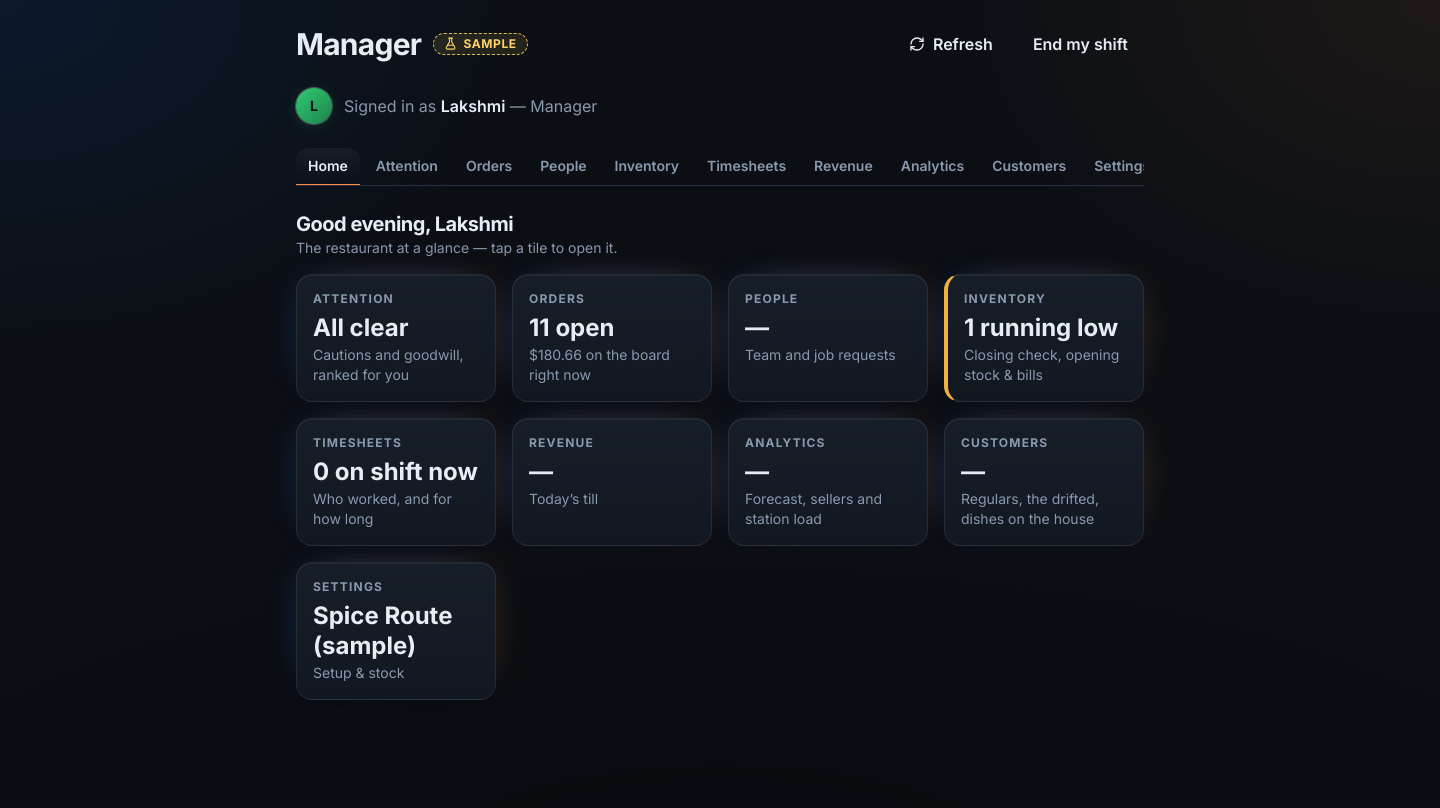
Test: attention_cards_show_their_why_line_with_the_evidence
Click the tab "Attention" at (407, 167), box [364,148,450,186]
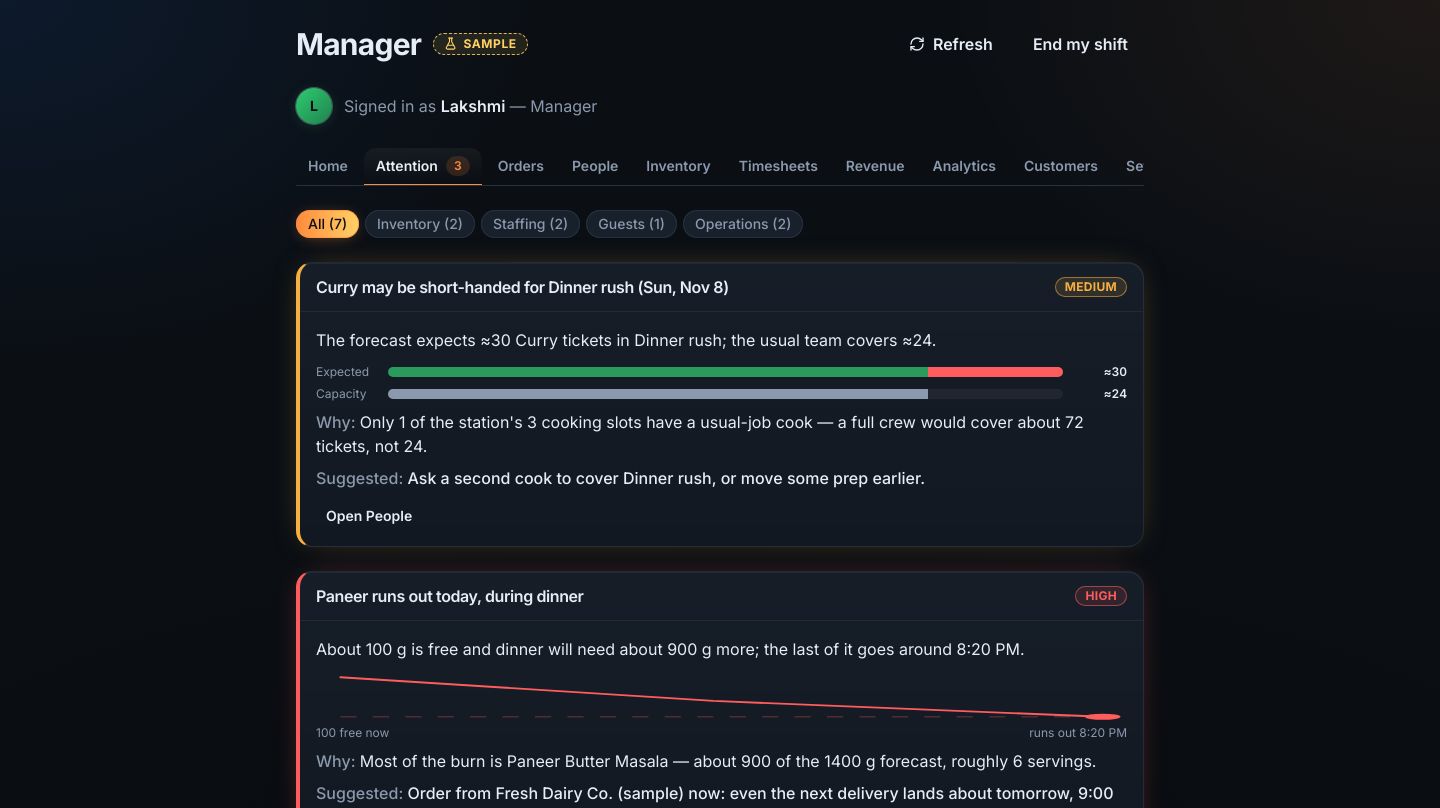
Check: the text "Why:" below "Capacity" is shown, box [316,412,360,432]
Check: the text "72 tickets, not 24" is shown, box [316,412,1084,456]
Check: the text "Why:" below "free now" is shown, box [316,751,360,771]
